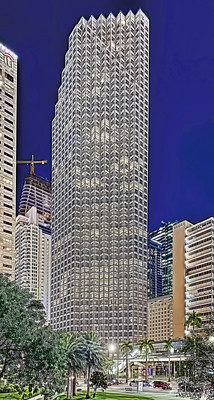medium: (46, 4, 151, 376)
